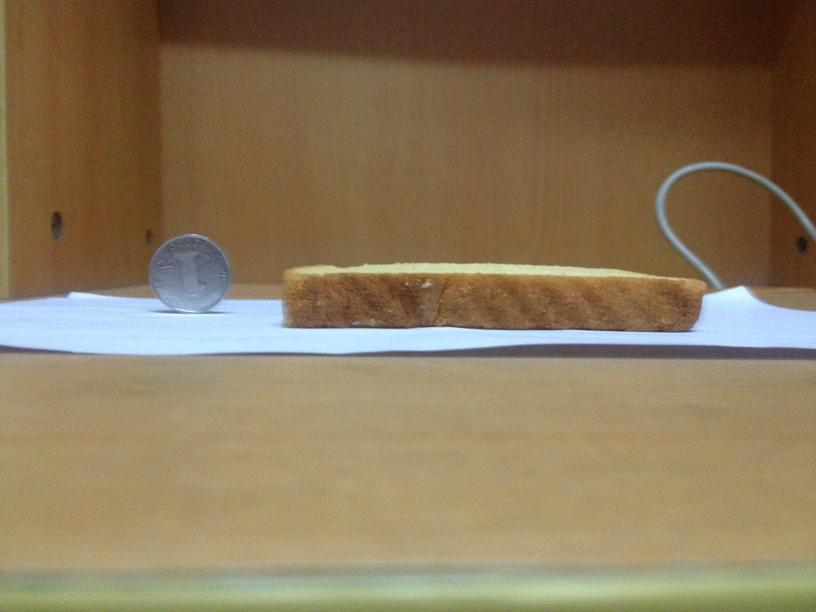bread: (274, 258, 708, 334)
coin: (144, 238, 231, 310)
